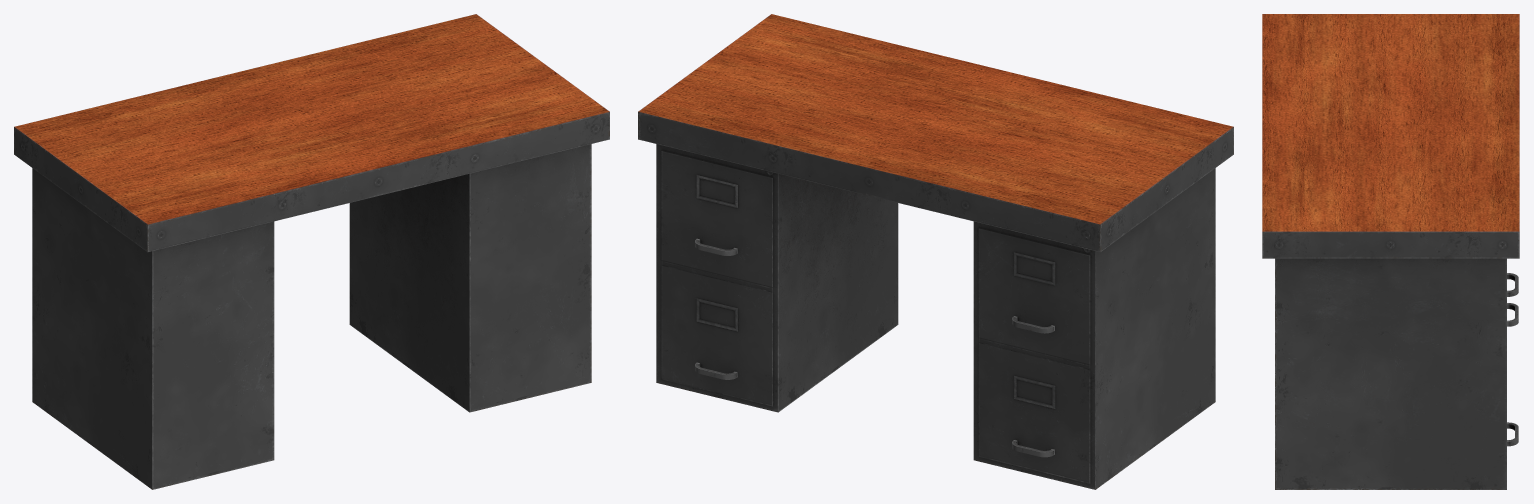
File: OfficeDesk.fbx
The picture shows the model from 3 angles, left to right: view 1: azimuth 30°, elevation 25°; view 2: azimuth 150°, elevation 25°; view 3: azimuth 270°, elevation 25°; orthographic projection. The views are drawn at different scales.
Parts seen in each view (by area): view 1: OfficeDesk; view 2: OfficeDesk; view 3: OfficeDesk.
Boxes of the visible parts, x1=… form: OfficeDesk: x1=14, y1=14, x2=609, y2=489; OfficeDesk: x1=638, y1=14, x2=1233, y2=489; OfficeDesk: x1=1262, y1=14, x2=1519, y2=489.
Size of the model in its own units: 60.84 by 68.7 by 122.
